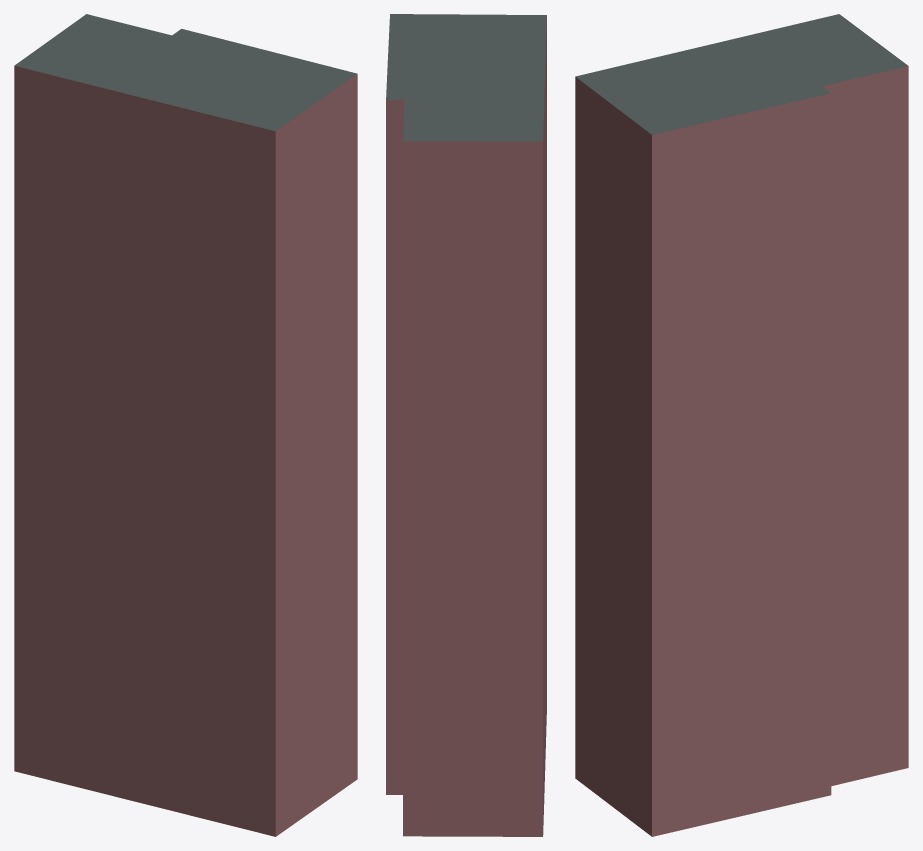
File: nyc-1016053-0.glb
3 views of the same model, side by side, from view 1: azimuth 30°, elevation 25°; view 2: azimuth 150°, elevation 25°; view 3: azimuth 270°, elevation 25° (orthographic).
Visible parts, largest first — view 1: nyc-1016053-0; view 2: nyc-1016053-0; view 3: nyc-1016053-0.
Boxes of the visible parts, x1,y1,x2,y2 form: nyc-1016053-0: (14, 14, 357, 836); nyc-1016053-0: (386, 14, 546, 836); nyc-1016053-0: (575, 14, 908, 836).
Size of the model in its own units: 28.58 by 77.27 by 33.27.
